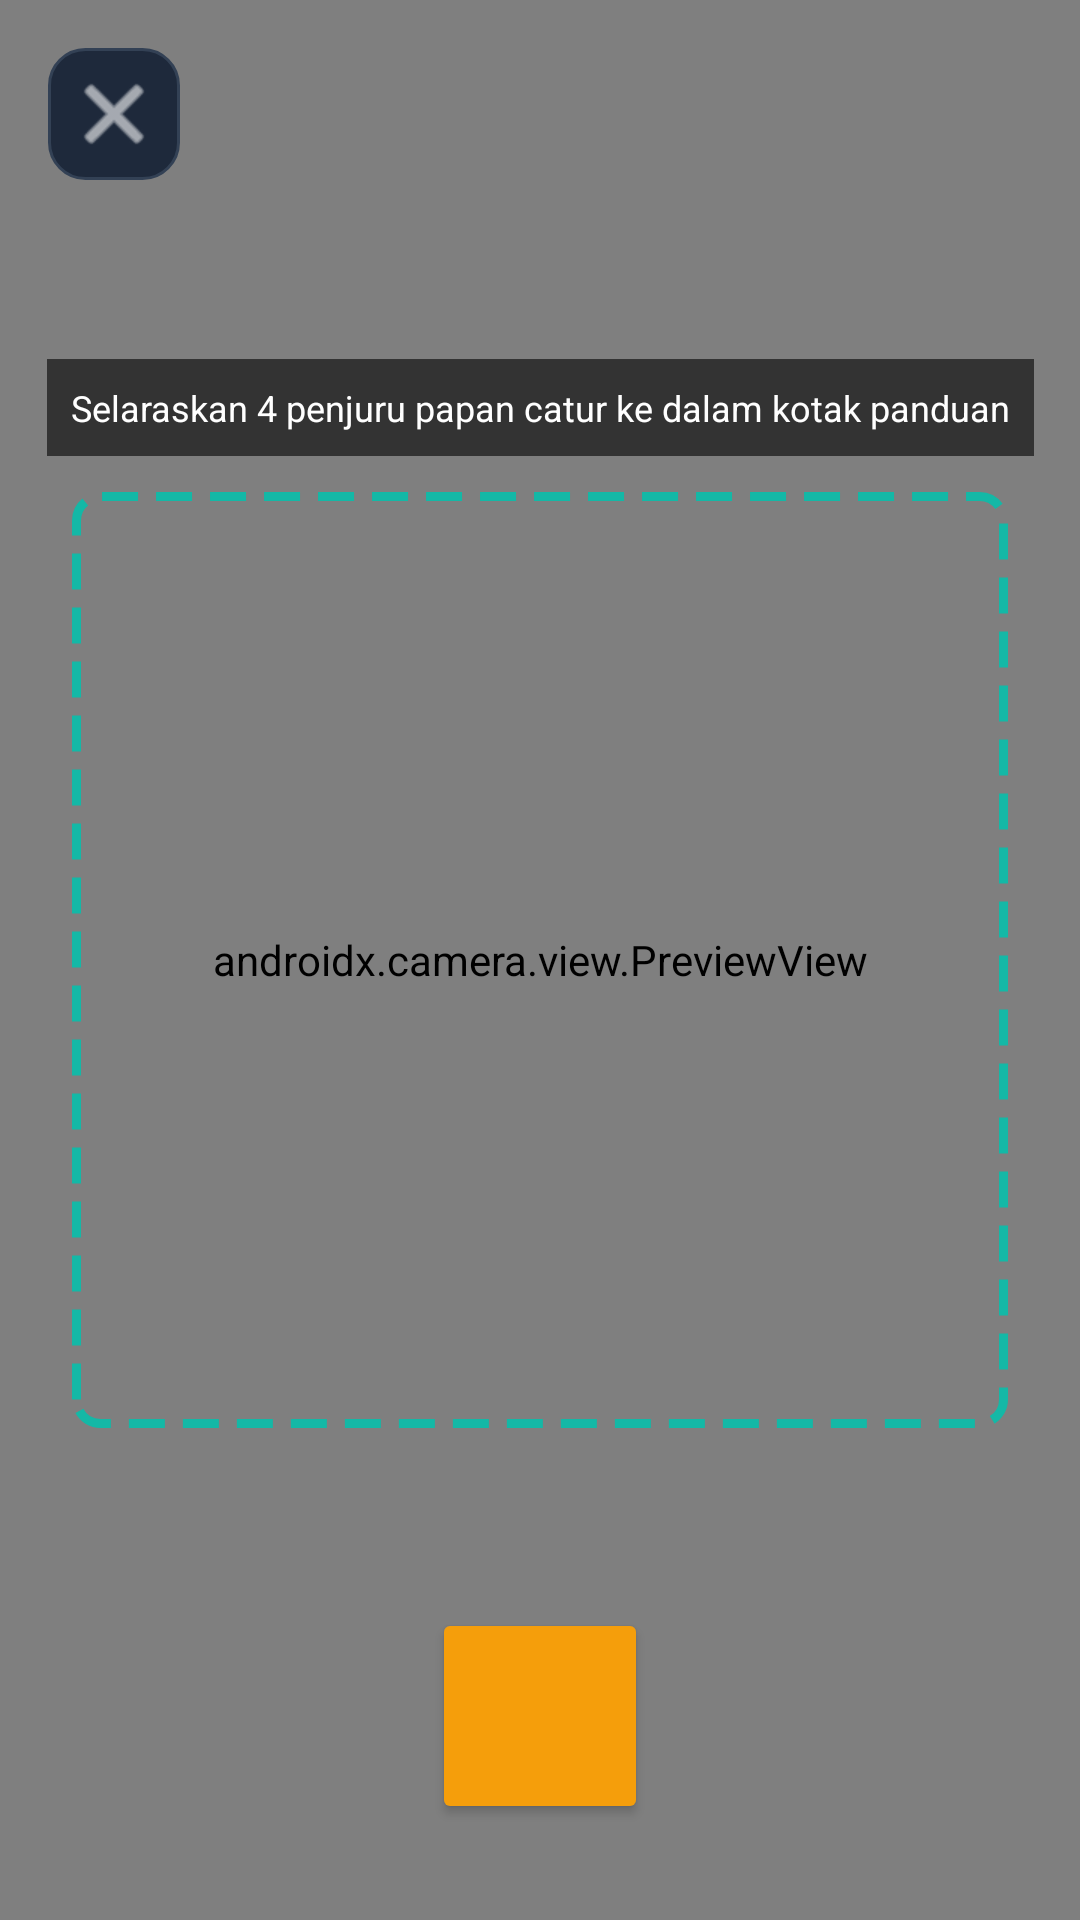

Locate icon controls on the screen. Image size 1080px×1920px, boxes as BBox(x1, y1, x2, y2).
close clear cancel: BBox(48, 48, 180, 180)
